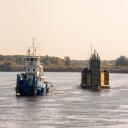tugboat: (15, 37, 56, 101)
